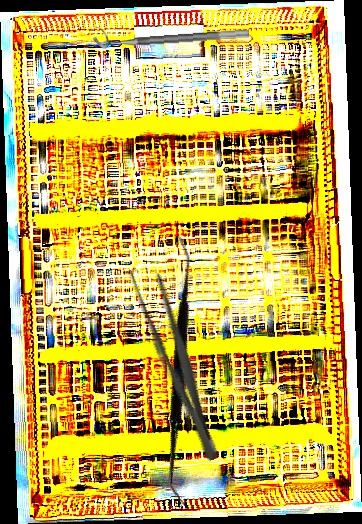Dressing Forceps: (123, 260, 230, 466)
Fixation Ring: (92, 15, 250, 50)
Spatula Surgical: (65, 234, 297, 507)
